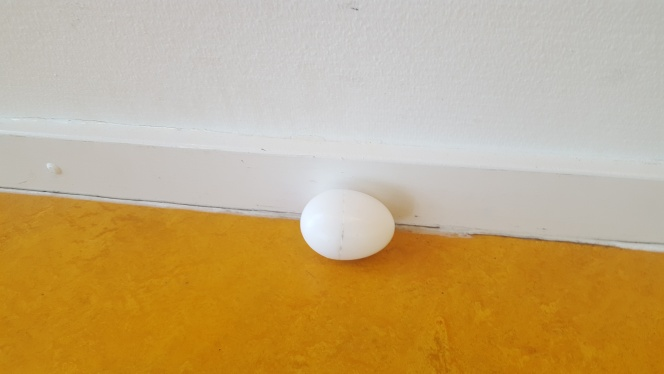egg: (298, 190, 395, 261)
